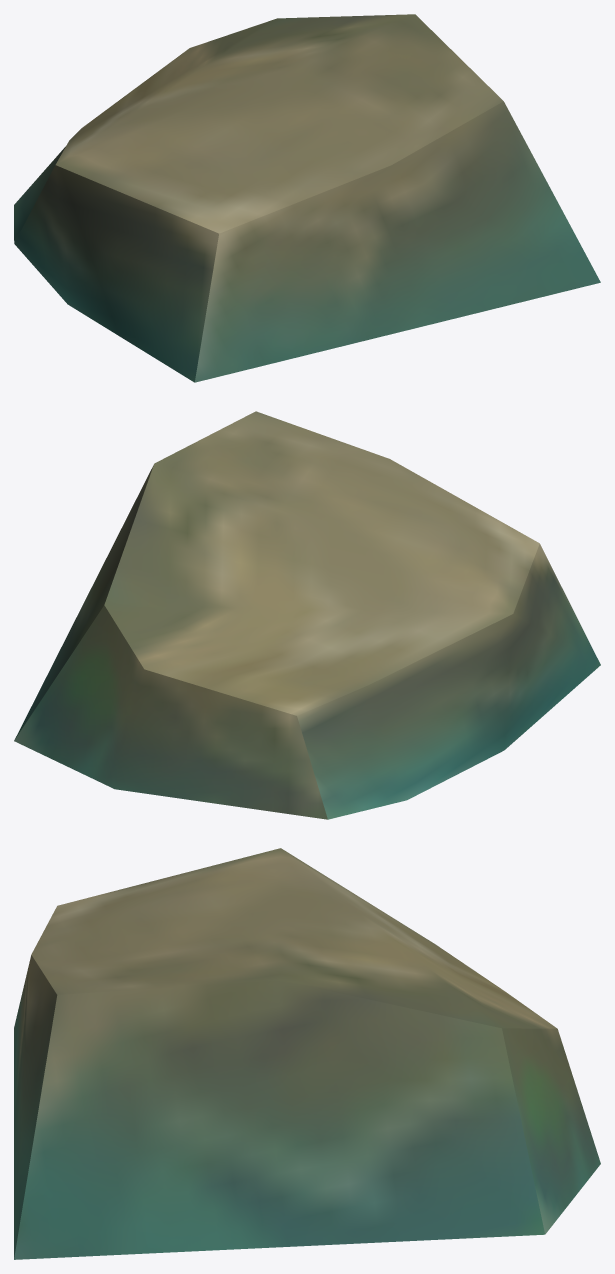
Rendered from scenes_beach_rock02e.FBX.
3 views of the same model, one above another, from view 1: azimuth 30°, elevation 25°; view 2: azimuth 150°, elevation 25°; view 3: azimuth 270°, elevation 25° (orthographic). The views are drawn at different scales.
Parts seen in each view (by area): view 1: scenes_beach_rock02e; view 2: scenes_beach_rock02e; view 3: scenes_beach_rock02e.
Part boxes in pixels (x1=…): scenes_beach_rock02e: x1=14, y1=14, x2=600, y2=382; scenes_beach_rock02e: x1=14, y1=411, x2=600, y2=819; scenes_beach_rock02e: x1=14, y1=848, x2=600, y2=1259.
Size of the model in its own units: 256 by 115 by 257.
